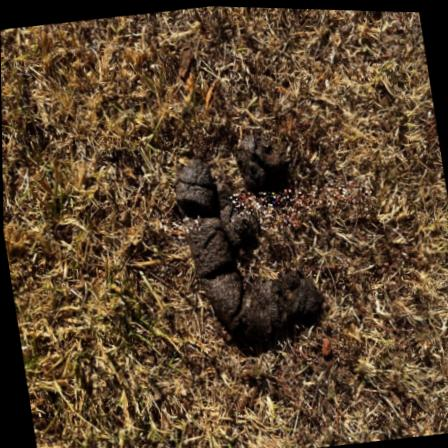dog-poop: (179, 137, 318, 343)
